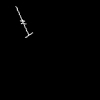treble_crochet: (17, 9, 30, 35)
